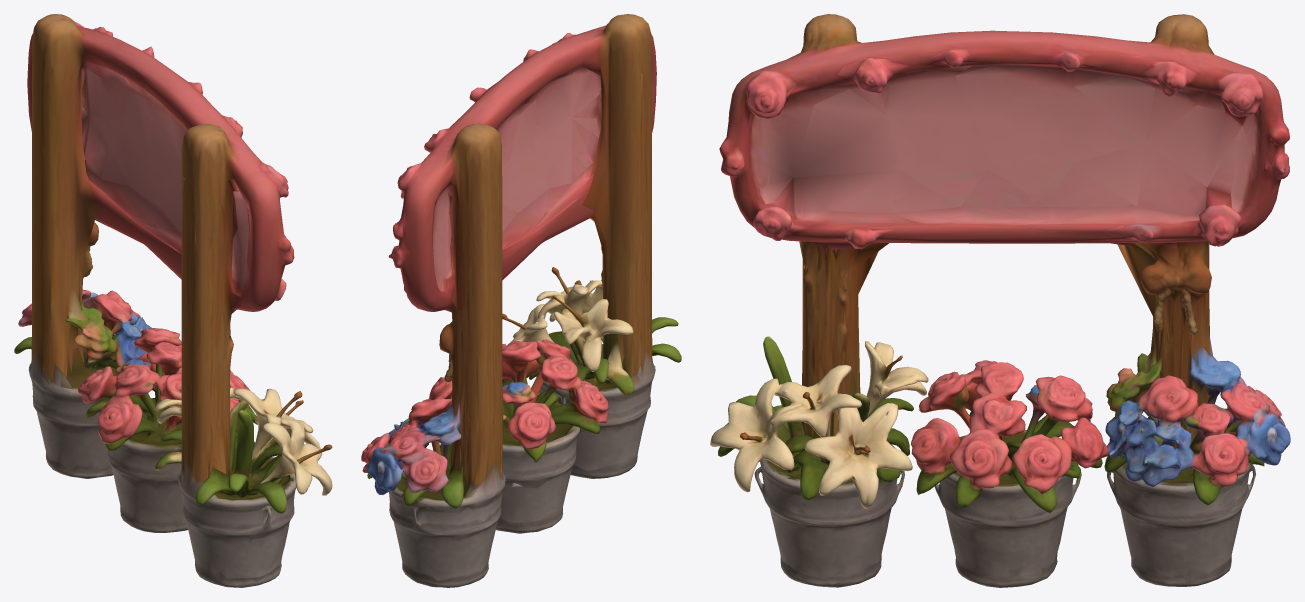
The model's file is keepsake-flower-shop.glb.
3 renders of one model, left to right at view 1: azimuth 30°, elevation 25°; view 2: azimuth 150°, elevation 25°; view 3: azimuth 270°, elevation 25°, orthographic. The views are drawn at different scales.
Visible parts, largest first — view 1: tripo_node_dd2a94c1-3655-4ecf-928c-d64d8d102b70; view 2: tripo_node_dd2a94c1-3655-4ecf-928c-d64d8d102b70; view 3: tripo_node_dd2a94c1-3655-4ecf-928c-d64d8d102b70.
Part boxes in pixels (left/top/right/bottom): tripo_node_dd2a94c1-3655-4ecf-928c-d64d8d102b70: left=14, top=14, right=332, bottom=587; tripo_node_dd2a94c1-3655-4ecf-928c-d64d8d102b70: left=361, top=14, right=681, bottom=587; tripo_node_dd2a94c1-3655-4ecf-928c-d64d8d102b70: left=710, top=14, right=1290, bottom=587.
Size of the model in its own units: 0.3506 by 0.9765 by 0.966.
1 material, 1 textured.
